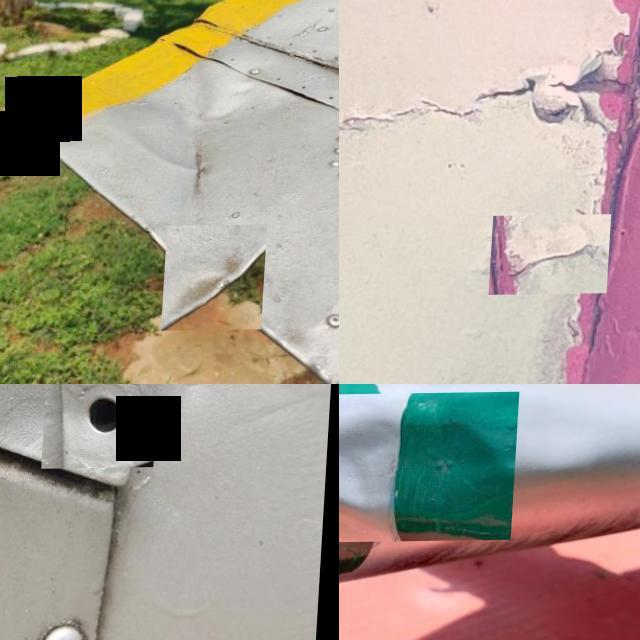Crack: (339, 27, 640, 160), (496, 216, 618, 296)
Dent: (339, 393, 522, 543), (168, 226, 272, 332)
Missing_Fastener: (46, 384, 163, 469)
